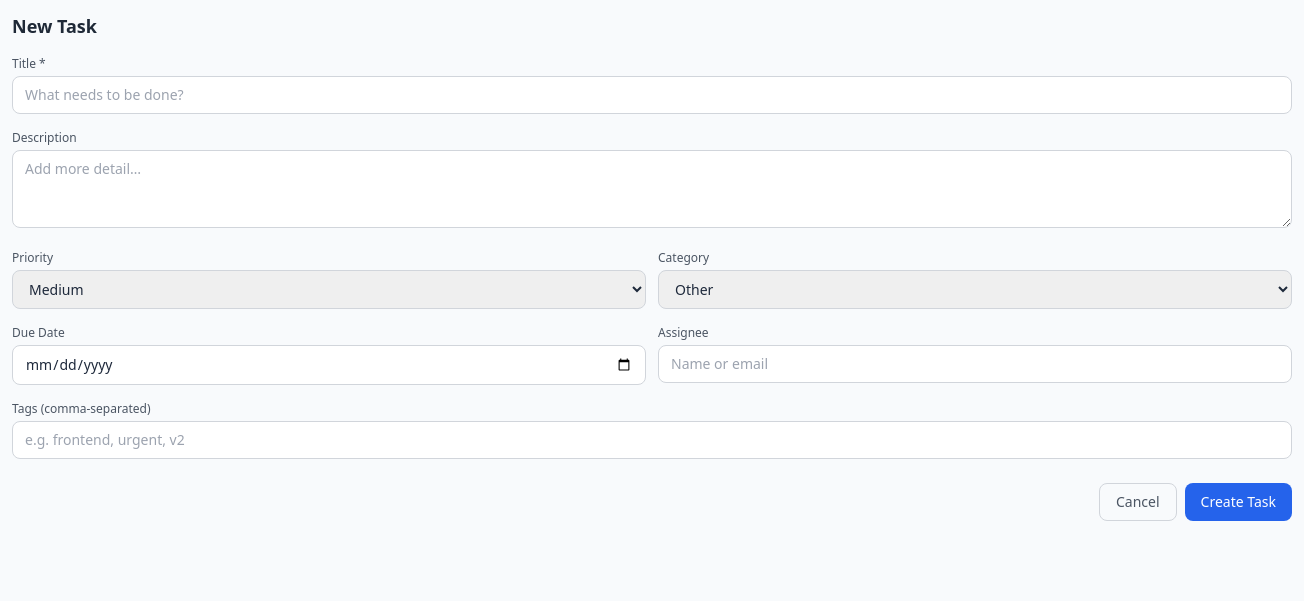
Test case: TaskForm — validation errors › clears validation errors after a successful submission
# Trigger an error by submitting empty
Step 1. Click the button with test id "submit-button" → (1238, 502), box [1185,483,1292,521]
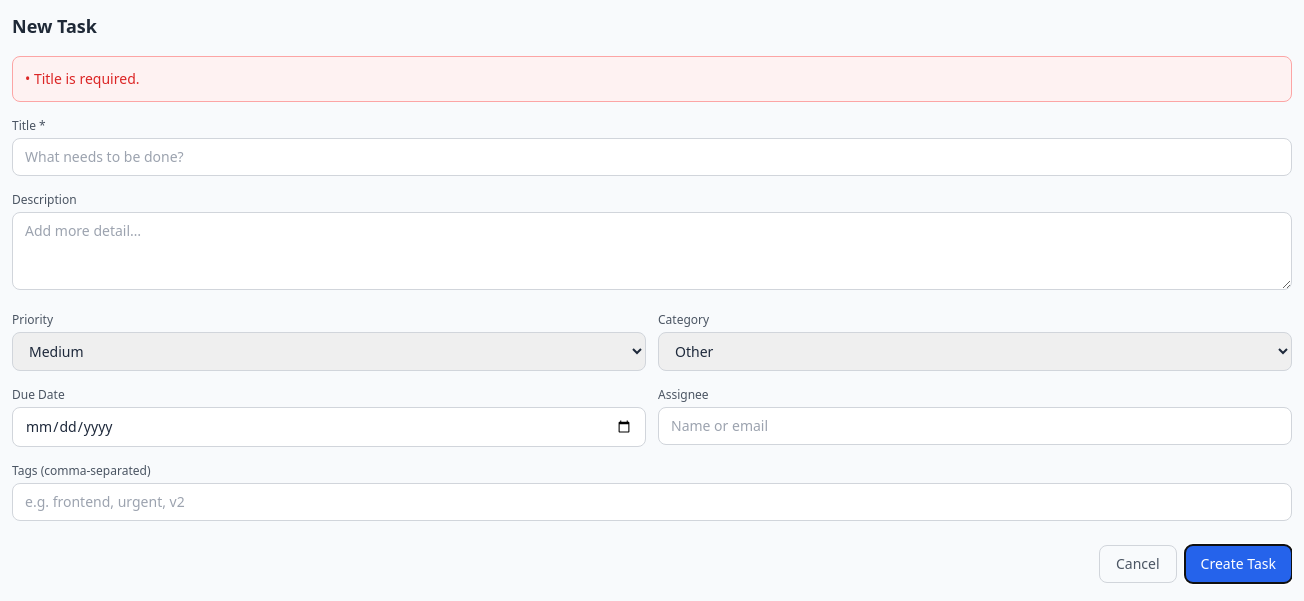
Result: the message "• Title is required." is shown at [12,56,1292,102]
# Fix the issue and re-submit
Step 2. Type "Valid title here" into the field with test id "title-input" → (652, 157), box [12,138,1292,176]
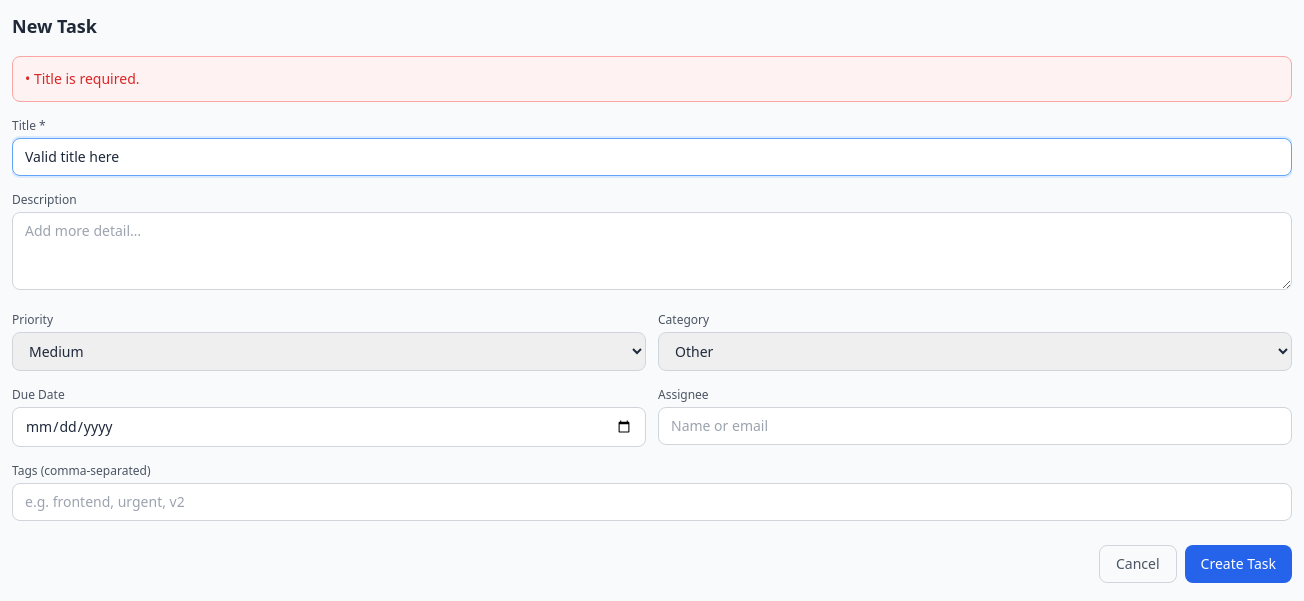
Step 3. Click the button with test id "submit-button" → (1238, 564), box [1185,545,1292,583]
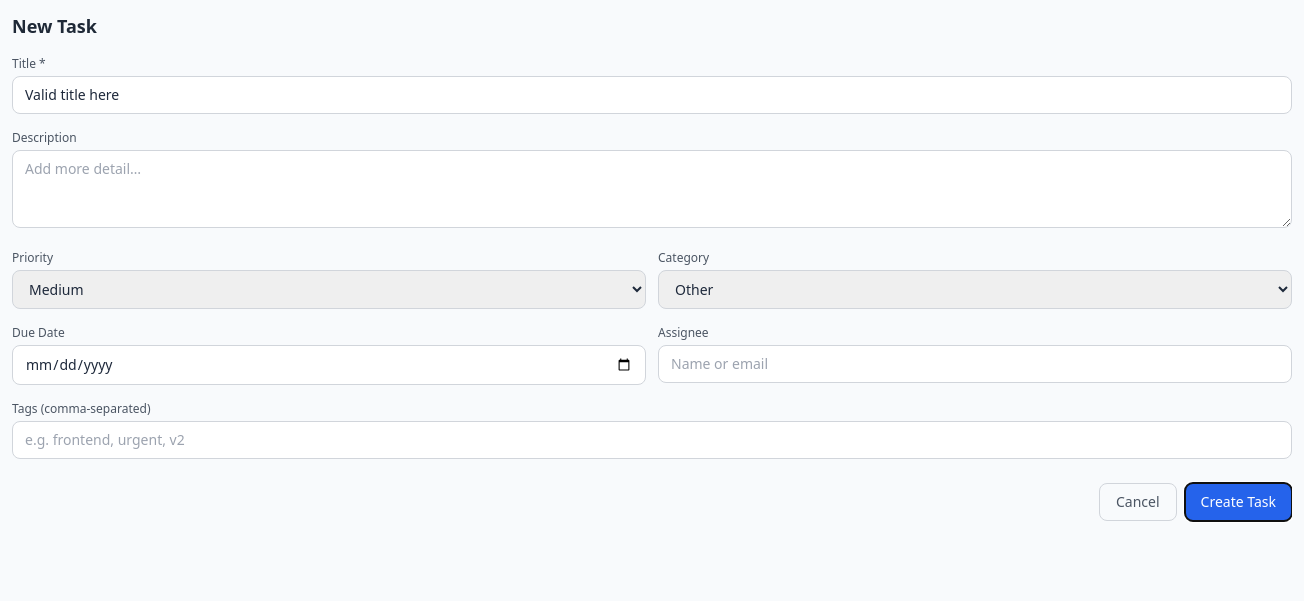
Result: the message with test id "form-errors" is gone
